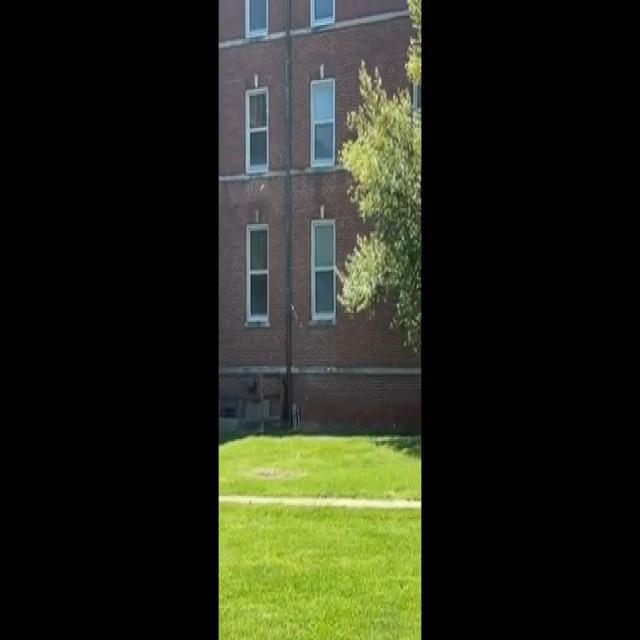drone: (322, 356, 340, 378)
